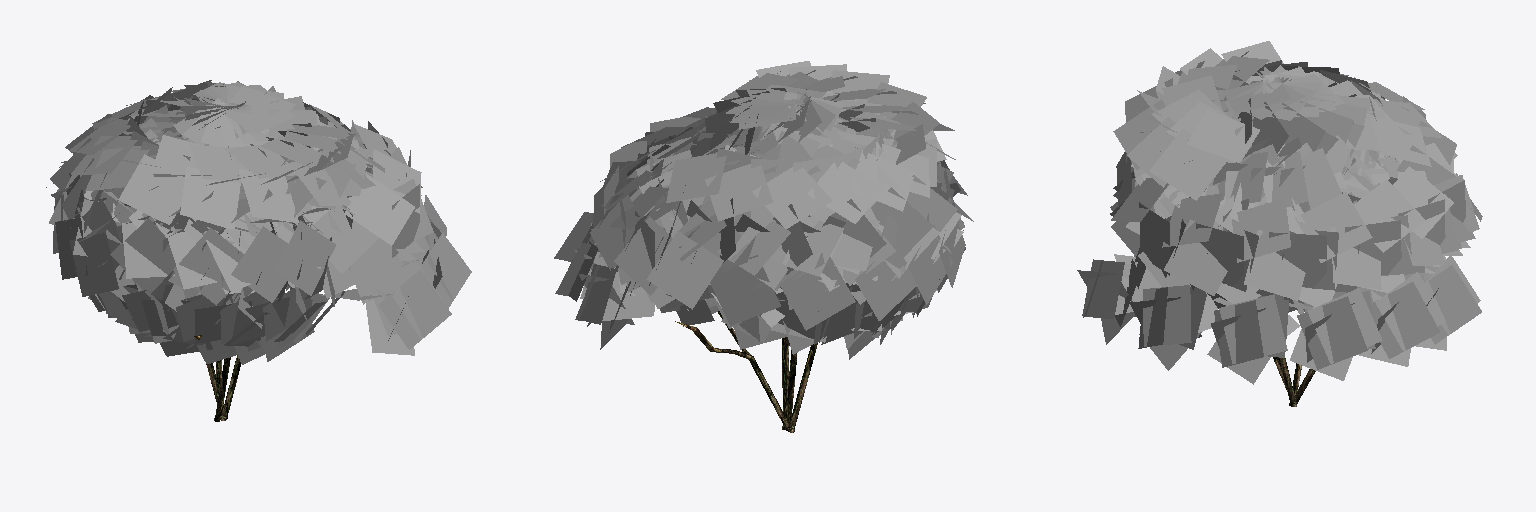
3 views of the same model, side by side, from view 1: azimuth 30°, elevation 25°; view 2: azimuth 150°, elevation 25°; view 3: azimuth 270°, elevation 25° (orthographic).
Visible parts, largest first — view 1: mesh0_mesh0.007, mesh1_mesh1.007; view 2: mesh0_mesh0.007, mesh1_mesh1.007; view 3: mesh0_mesh0.007, mesh1_mesh1.007.
Boxes of the visible parts, x1,y1,x2,y2 form: mesh0_mesh0.007: [46, 80, 471, 364]; mesh1_mesh1.007: [194, 335, 240, 421]; mesh0_mesh0.007: [554, 61, 973, 359]; mesh1_mesh1.007: [675, 311, 817, 432]; mesh0_mesh0.007: [1077, 41, 1482, 384]; mesh1_mesh1.007: [1273, 357, 1315, 406].
Bounding box in the file's own units: 129 × 110 × 123.
Materials: 3 (1 with a texture image).